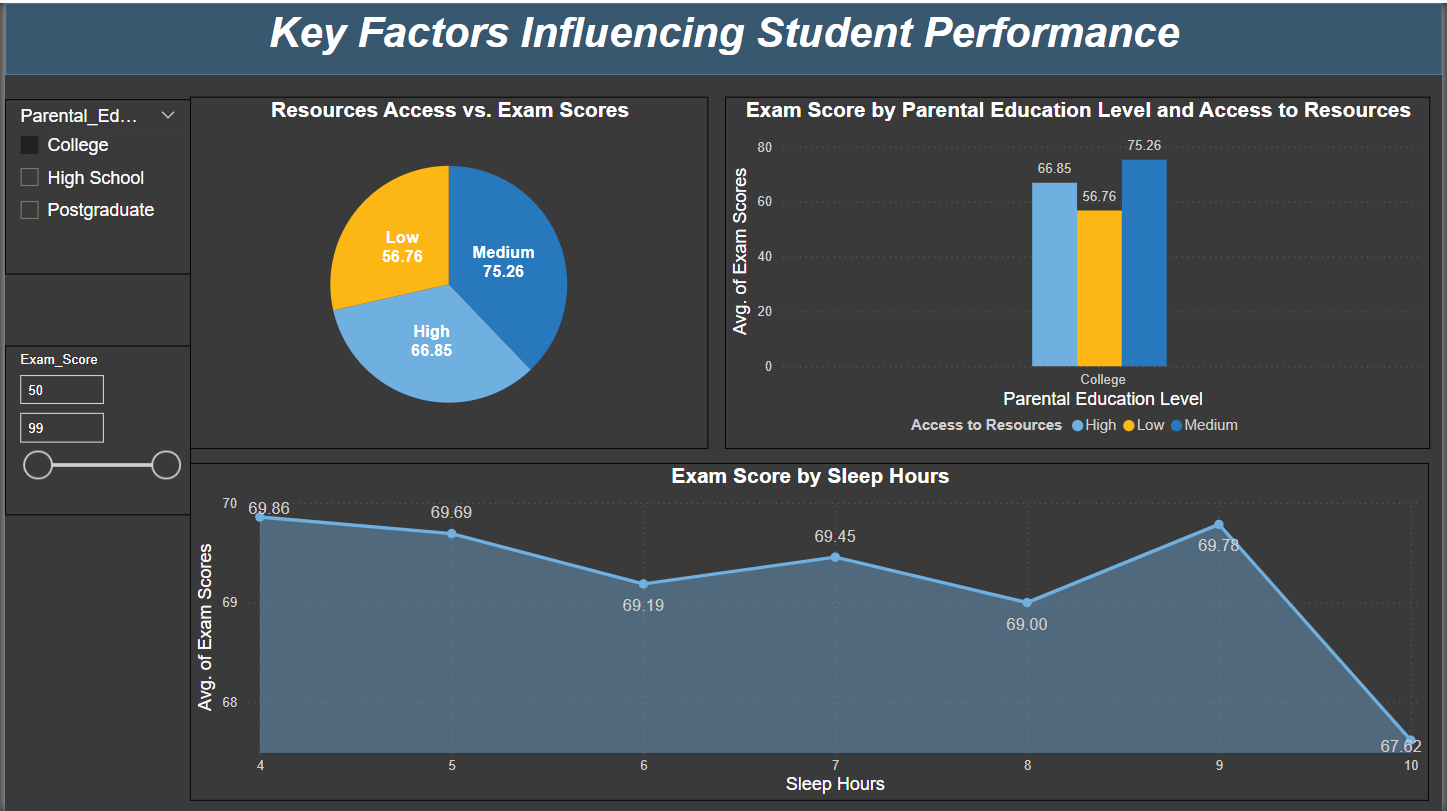

The dashboard page shown, as its layout file describes it:
{"tool":"powerbi","page":{"name":"Page 1","canvas":[1280,720],"ordinal":0},"visuals":[{"type":"pieChart","title":"Resources Access vs. Exam Scores","fields":{"Category":["StudentPerformanceFactors - Dat.Access_to_Resources"],"Y":["Avg(StudentPerformanceFactors - Dat.Exam_Score)"]},"box":[165.1,83.7,461.6,314],"z":0},{"type":"lineChart","title":"Exam Score by Sleep Hours","fields":{"Y":["Avg(StudentPerformanceFactors - Dat.Exam_Score)"],"Category":["StudentPerformanceFactors - Dat.Sleep_Hours"]},"box":[165.1,409.3,1103.5,301.2],"z":1000},{"type":"clusteredColumnChart","title":"Exam Score by Parental Education Level and Access to Resources","fields":{"Category":["StudentPerformanceFactors - Dat.Parental_Education_Level"],"Y":["Avg(StudentPerformanceFactors - Dat.Exam_Score)"],"Series":["StudentPerformanceFactors - Dat.Access_to_Resources"]},"box":[641.3,83.4,627.8,313.3],"z":2000},{"type":"shape","title":"Key Factors Influencing Student Performance.","box":[0,0,1280.2,64.4],"z":3000},{"type":"textbox","box":[0,0,1280.2,64.4],"z":4000},{"type":"slicer","fields":{"Values":["StudentPerformanceFactors - Dat.Parental_Education_Level"]},"box":[0,85.7,165.3,155.6],"z":4001},{"type":"slicer","fields":{"Values":["StudentPerformanceFactors - Dat.Exam_Score"]},"box":[0,305.2,165.3,150.8],"z":4002}]}

Visuals, with their boxes in screenshot pixels (x1, y1, x2, y2), scaled from the page's 1280x720 canvas onto the 1447x811 screenshot:
"Resources Access vs. Exam Scores" pieChart: <region>187, 94, 708, 448</region>
"Exam Score by Sleep Hours" lineChart: <region>187, 461, 1434, 800</region>
"Exam Score by Parental Education Level and Access to Resources" clusteredColumnChart: <region>725, 94, 1435, 447</region>
"Key Factors Influencing Student Performance." shape: <region>0, 0, 1446, 73</region>
textbox: <region>0, 0, 1446, 73</region>
slicer - StudentPerformanceFactors - Dat.Parental_Education_Level: <region>0, 97, 187, 272</region>
slicer - StudentPerformanceFactors - Dat.Exam_Score: <region>0, 344, 187, 514</region>
